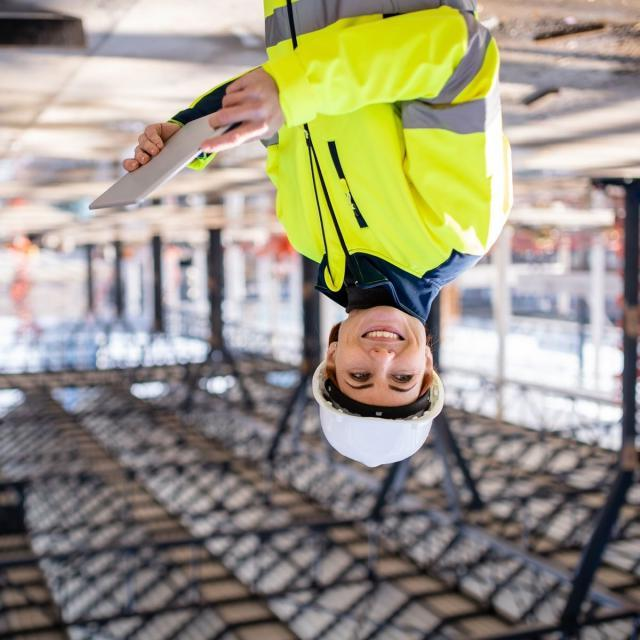safetyhelmet: (309, 318, 450, 472)
